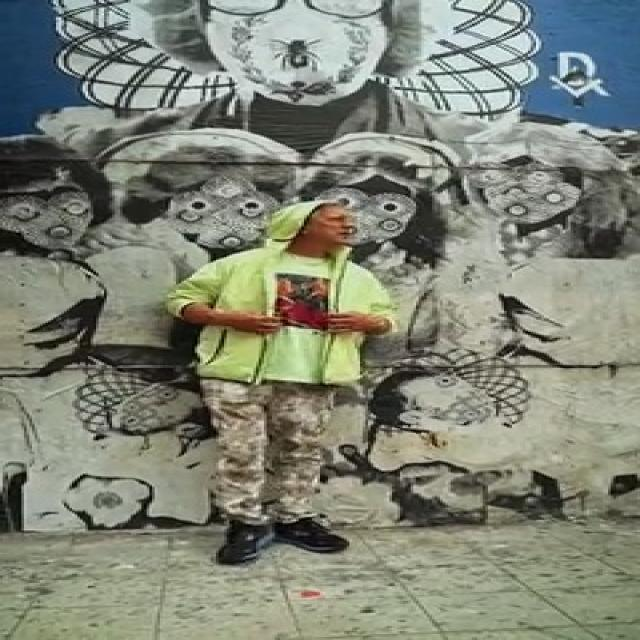Jacket_Wearer: (180, 249, 397, 382)
Person: (175, 194, 397, 545)
